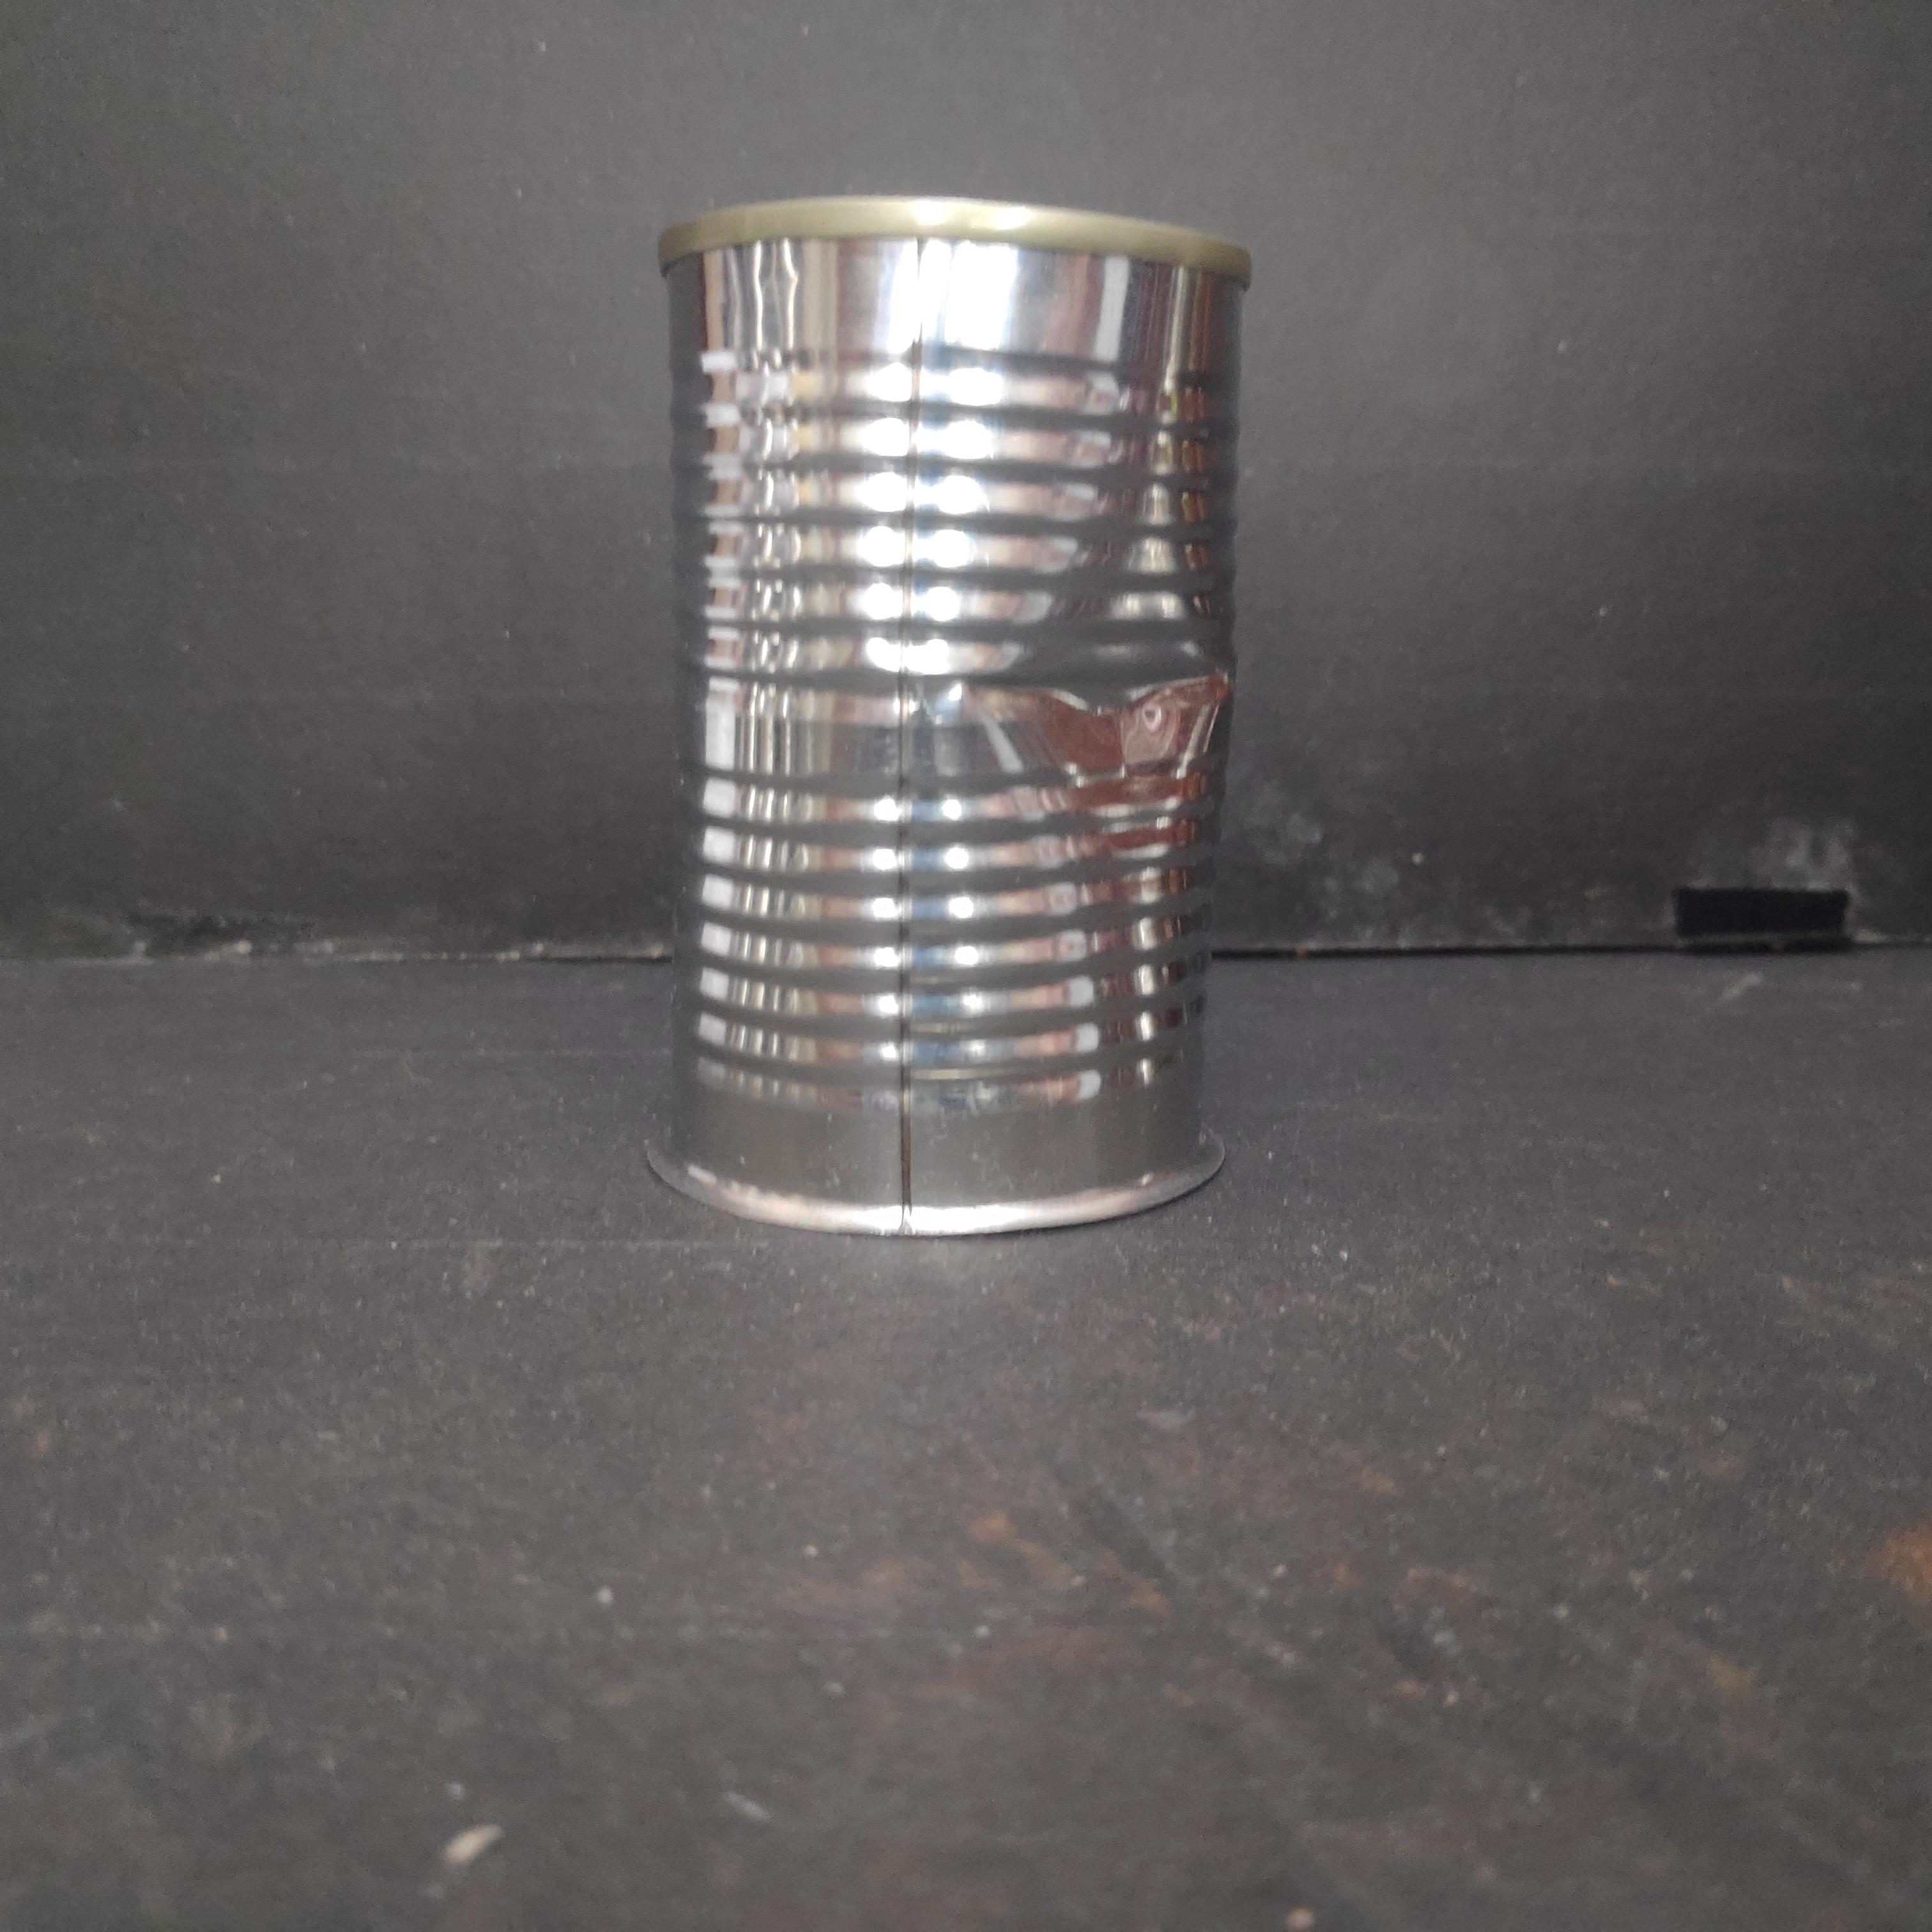Minor Defect: (646, 180, 1261, 1254)
